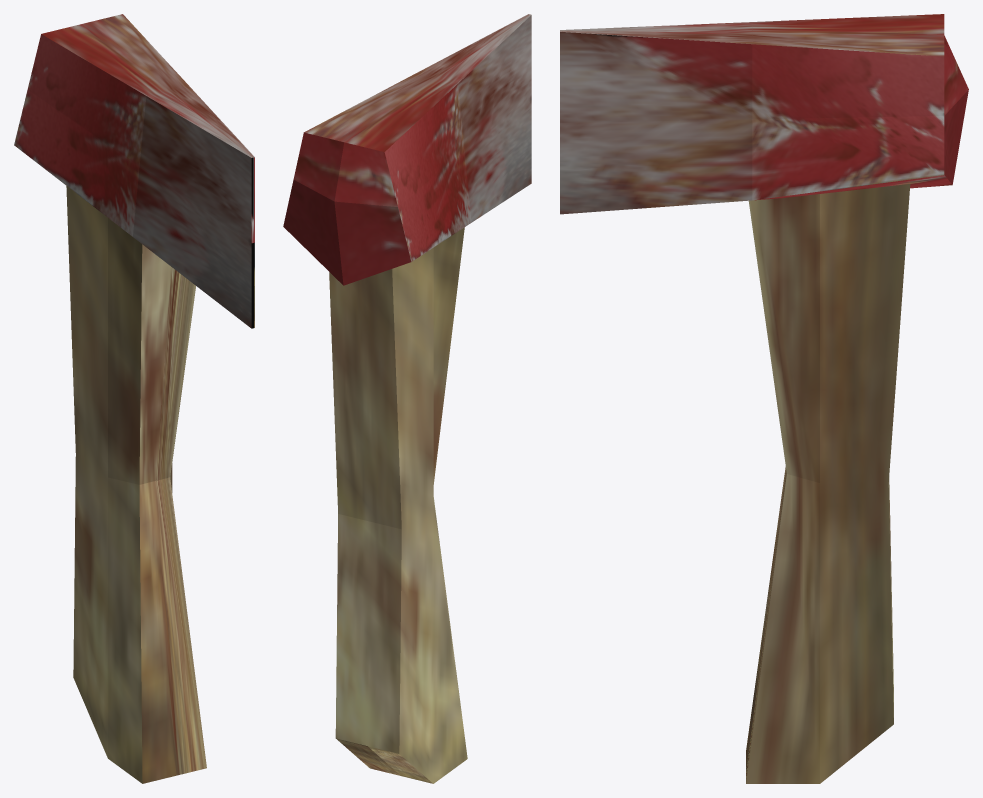
File: Axe.fbx
3 views of the same model, side by side, from view 1: azimuth 30°, elevation 25°; view 2: azimuth 150°, elevation 25°; view 3: azimuth 270°, elevation 25° (orthographic). The views are drawn at different scales.
Parts seen in each view (by area): view 1: Cube, Cube.001; view 2: Cube, Cube.001; view 3: Cube, Cube.001.
Boxes of the visible parts, bbox=[...] form: Cube: bbox=[66, 186, 206, 783]; Cube.001: bbox=[14, 14, 254, 328]; Cube: bbox=[329, 227, 467, 783]; Cube.001: bbox=[283, 14, 531, 285]; Cube: bbox=[746, 184, 910, 783]; Cube.001: bbox=[560, 14, 968, 214].
Bounding box in the file's own units: 67 × 338 × 171.
